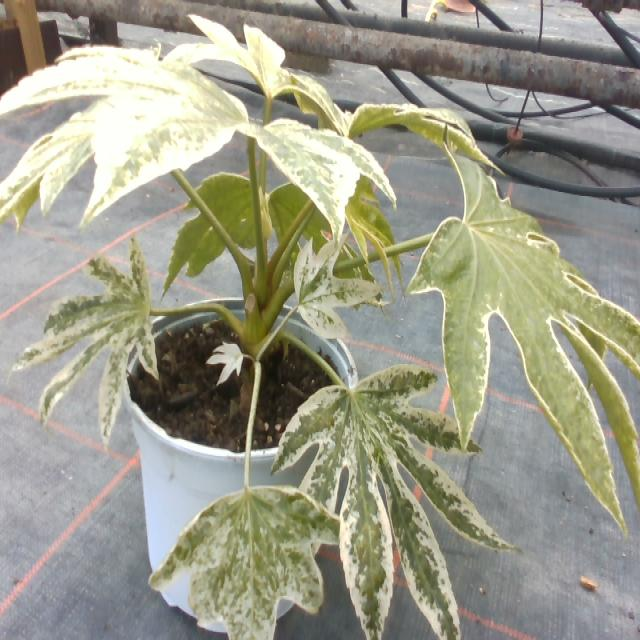Fatsia-japonica: (425, 133, 640, 551), (0, 31, 397, 242), (265, 367, 502, 640), (14, 233, 176, 447), (148, 464, 342, 640), (170, 169, 368, 301), (296, 52, 505, 175), (169, 3, 351, 136), (276, 230, 386, 339)
